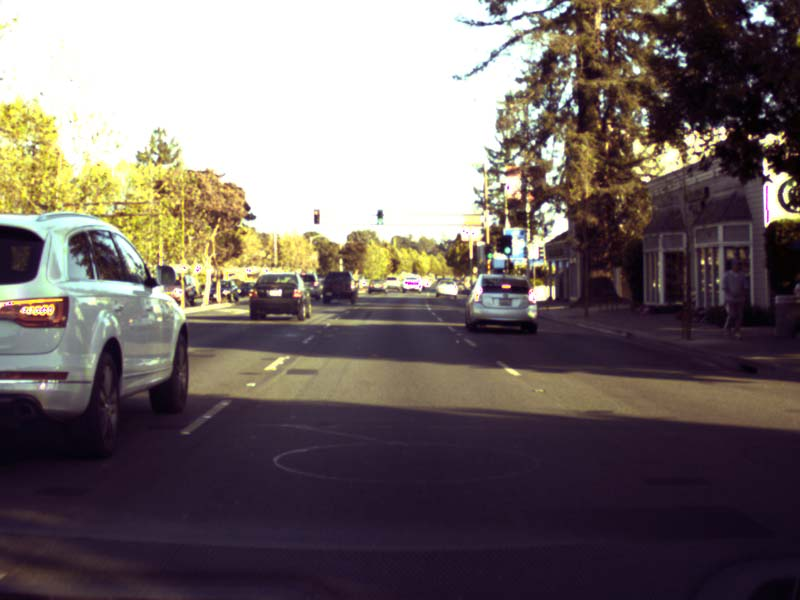Green: (500, 235, 510, 254), (484, 244, 493, 260), (375, 208, 383, 224)
Red: (313, 209, 320, 223)
